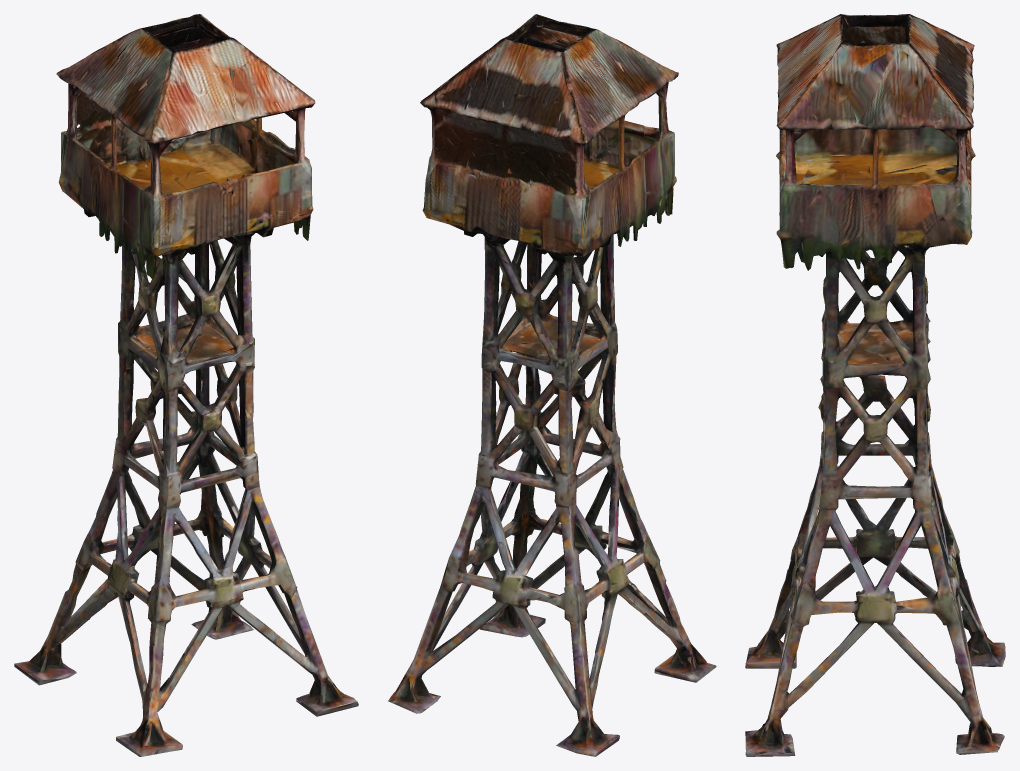
Rendered from watchtower.glb.
The picture shows the model from 3 angles, left to right: view 1: azimuth 30°, elevation 25°; view 2: azimuth 150°, elevation 25°; view 3: azimuth 270°, elevation 25°; orthographic projection. The views are drawn at different scales.
Parts seen in each view (by area): view 1: watchtower; view 2: watchtower; view 3: watchtower.
Boxes of the visible parts, x1=… form: watchtower: x1=14, y1=14, x2=358, y2=756; watchtower: x1=388, y1=14, x2=716, y2=756; watchtower: x1=745, y1=14, x2=1005, y2=756.
Size of the model in its own units: 70.21 by 201 by 70.3.
Materials: 1 (1 with a texture image).
